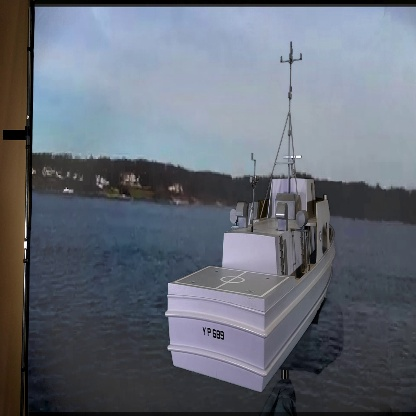YP689: (166, 46, 337, 394)
